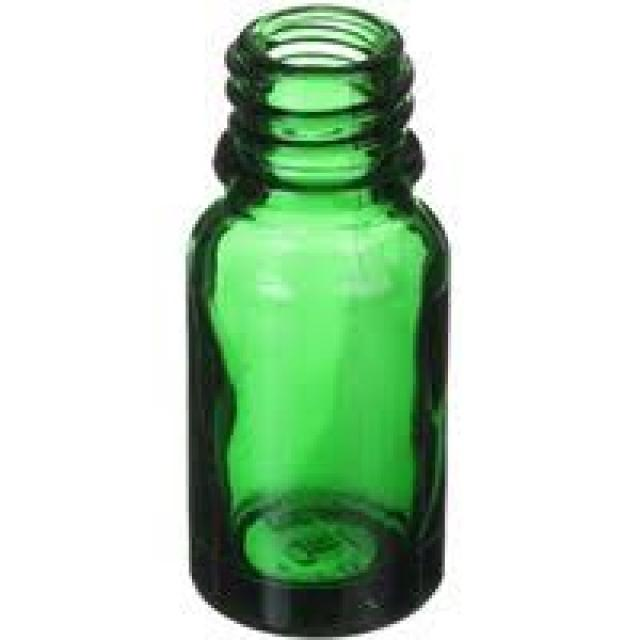glass: (179, 3, 445, 634)
